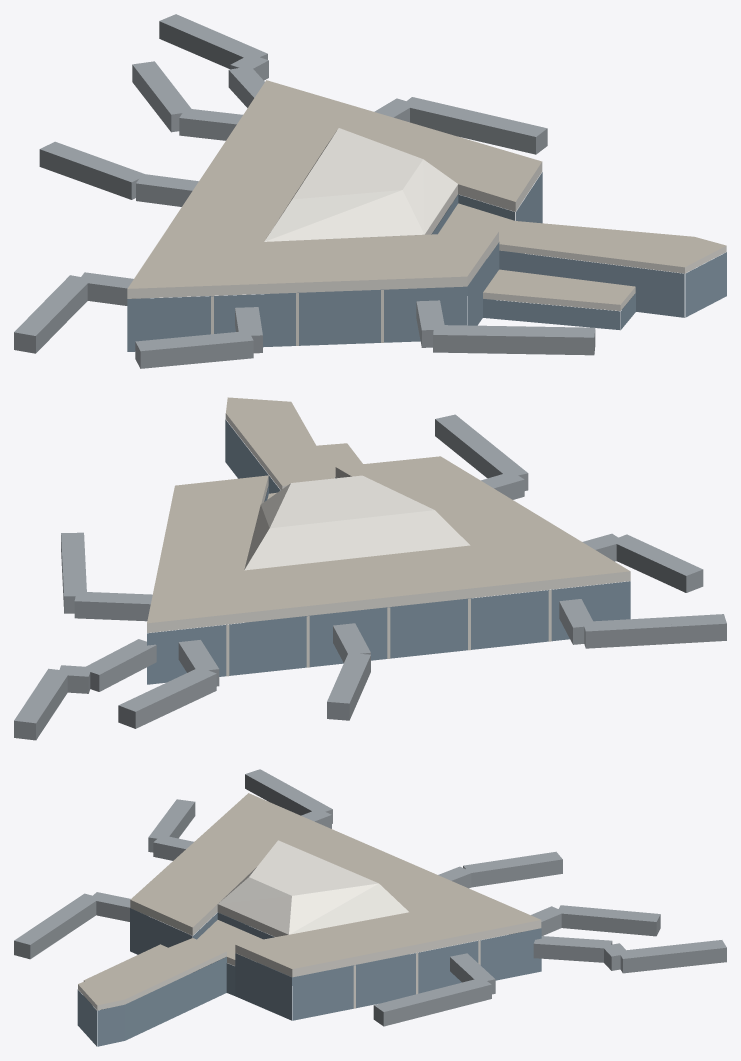
The model's file is paris-cdg-terminal-1-satellite-x.glb.
3 renders of one model, top to bottom at view 1: azimuth 30°, elevation 25°; view 2: azimuth 150°, elevation 25°; view 3: azimuth 270°, elevation 25°, orthographic. The views are drawn at different scales.
Parts seen in each view (by area): view 1: Paris-CDG Terminal 1 Satellite X; view 2: Paris-CDG Terminal 1 Satellite X; view 3: Paris-CDG Terminal 1 Satellite X.
Part boxes in pixels (left/top/right/bottom): Paris-CDG Terminal 1 Satellite X: left=14, top=14, right=726, bottom=368; Paris-CDG Terminal 1 Satellite X: left=14, top=397, right=726, bottom=740; Paris-CDG Terminal 1 Satellite X: left=14, top=769, right=726, bottom=1046.
Bounding box in the file's own units: 102 × 15 × 125.
